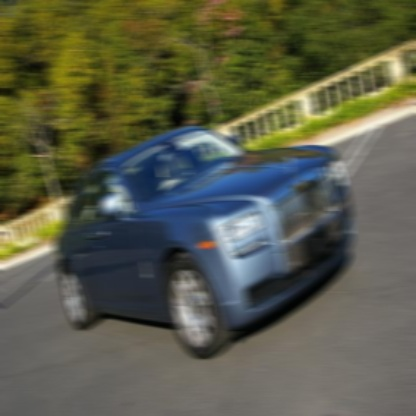Vehicle: (55, 126, 353, 362)
